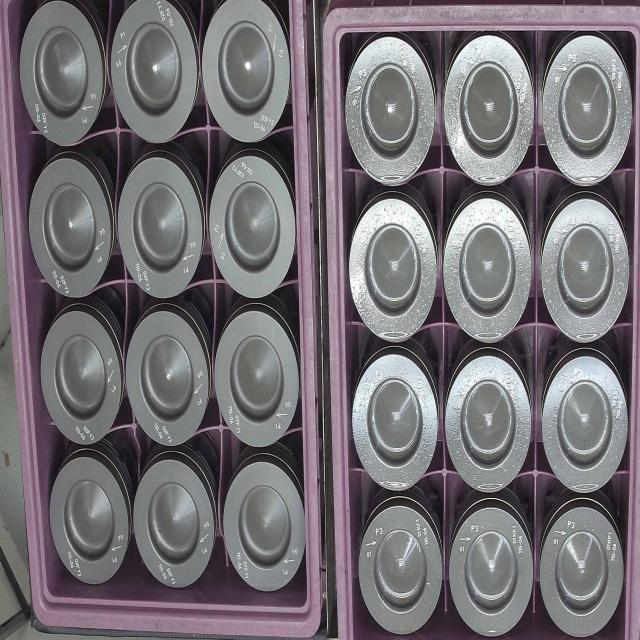P1: (15, 1, 113, 154), (205, 1, 287, 146), (120, 159, 205, 298), (47, 454, 132, 590), (210, 161, 291, 303), (40, 312, 124, 446), (115, 6, 194, 148), (216, 314, 302, 444), (30, 160, 110, 299), (134, 458, 214, 592), (225, 460, 302, 599), (133, 313, 209, 451)
P3: (444, 42, 536, 196), (540, 38, 633, 188), (540, 203, 631, 351), (439, 203, 537, 339), (348, 36, 432, 189), (450, 351, 534, 496), (353, 355, 439, 489), (359, 502, 445, 635), (450, 507, 536, 639), (546, 356, 626, 496), (350, 201, 428, 344), (542, 506, 626, 634)
